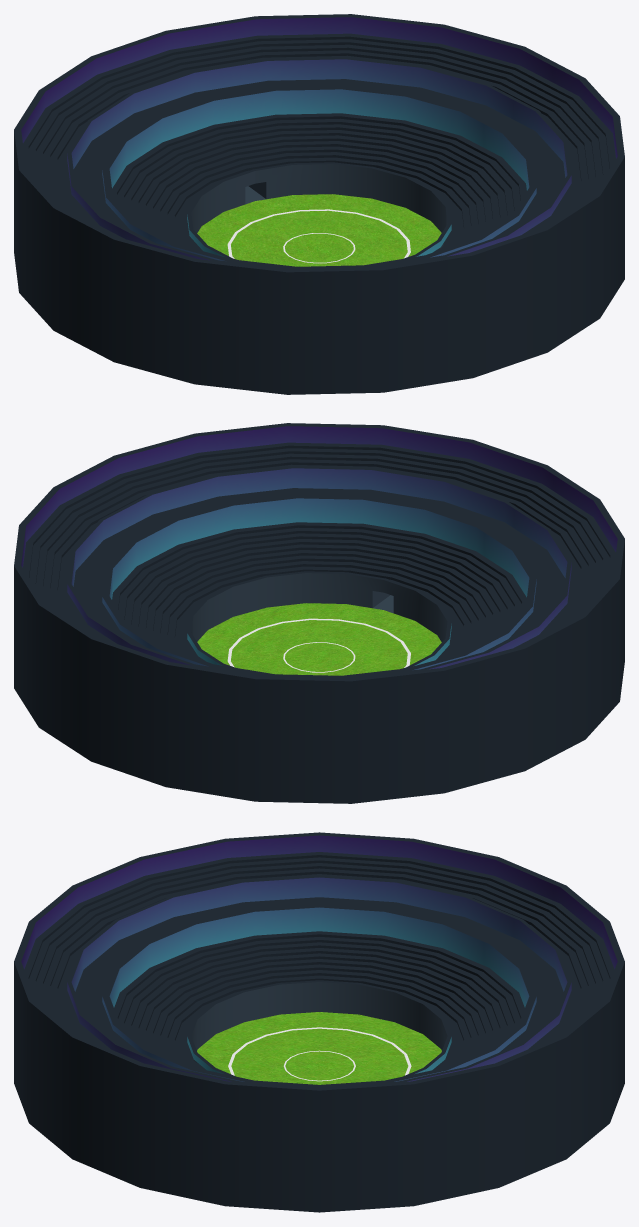
Rendered from stadium_grass.fbx.
The picture shows the model from 3 angles, top to bottom: view 1: azimuth 30°, elevation 25°; view 2: azimuth 150°, elevation 25°; view 3: azimuth 270°, elevation 25°; orthographic projection.
Visible parts, largest first — view 1: pCylinder1; view 2: pCylinder1; view 3: pCylinder1.
Boxes of the visible parts, x1=… form: pCylinder1: x1=14, y1=14, x2=624, y2=394; pCylinder1: x1=14, y1=423, x2=624, y2=803; pCylinder1: x1=14, y1=832, x2=624, y2=1212.
Bounding box in the file's own units: 3374 × 743 × 3374.
Materials: 4 (3 with a texture image).
